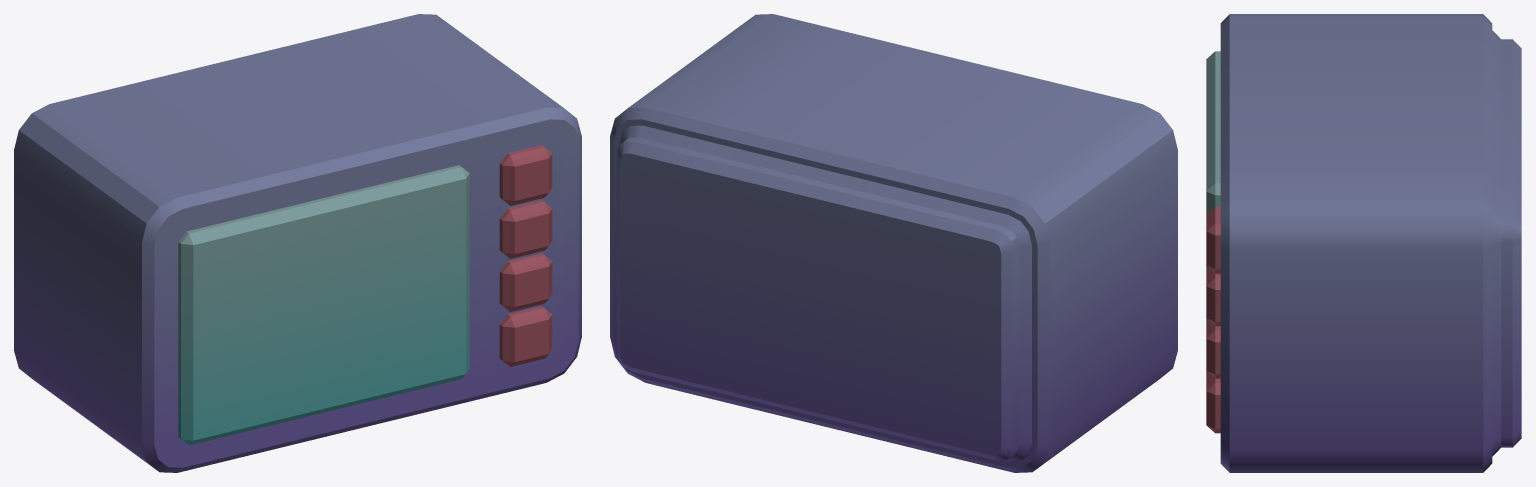
Rendered from Microvawe.fbx.
3 renders of one model, left to right at view 1: azimuth 30°, elevation 25°; view 2: azimuth 150°, elevation 25°; view 3: azimuth 270°, elevation 25°, orthographic.
Parts seen in each view (by area): view 1: Microvawe; view 2: Microvawe; view 3: Microvawe.
Part boxes in pixels (x1,y1,x2,y2): Microvawe: [14, 14, 581, 472]; Microvawe: [610, 14, 1177, 472]; Microvawe: [1206, 14, 1521, 472].
Size of the model in its own units: 167 by 100 by 105.
